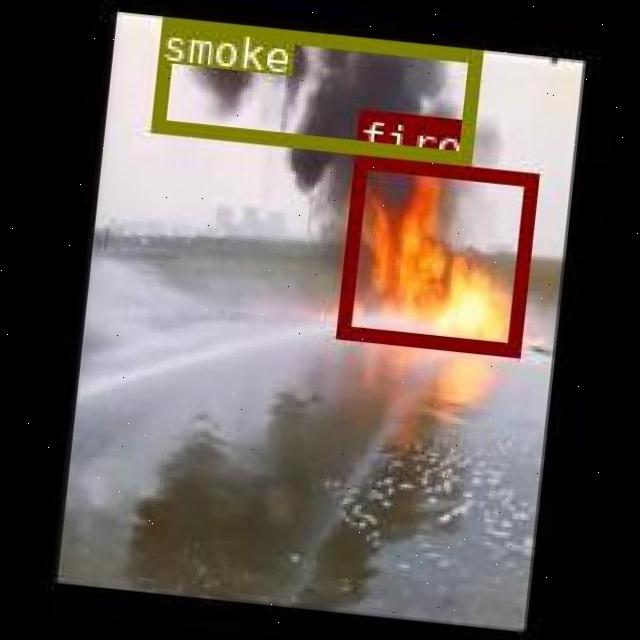fire: (334, 152, 534, 352)
smoke: (149, 15, 478, 162)
